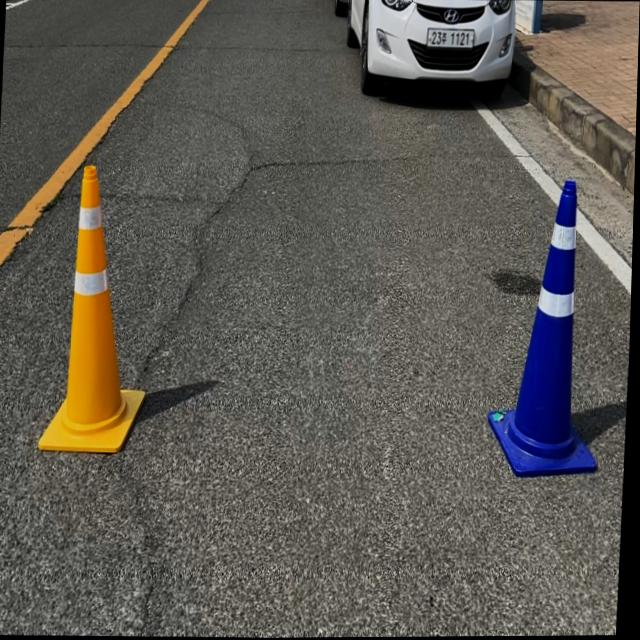b_rub: (492, 180, 600, 477)
y_rub: (40, 164, 147, 452)
